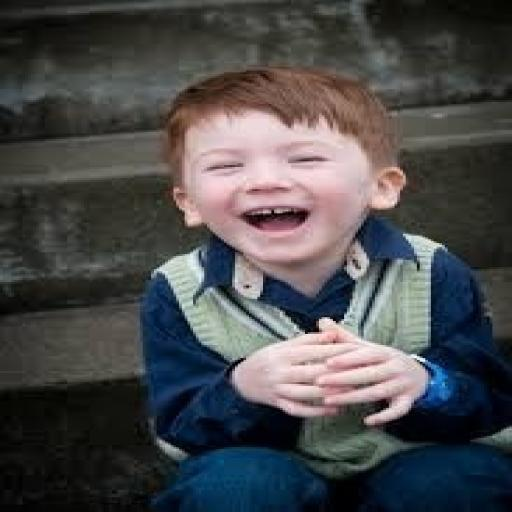laughing: (123, 60, 509, 510)
